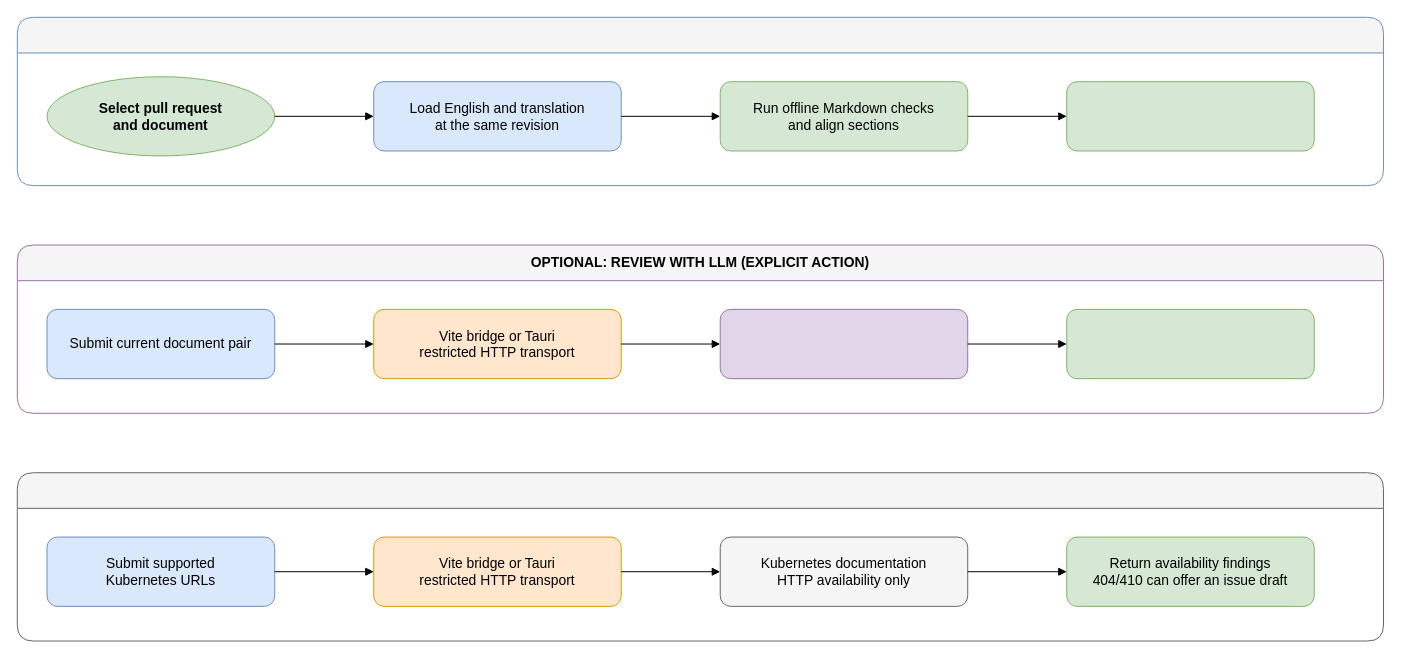
Image size: 1401x658. Some labels were removed from this diagram. Here are the shapes that lost their labels. From the top down, the box of each, then its label:
(16, 16, 1384, 186): DOCUMENT SELECTION
(1066, 81, 1314, 151): Show offline findings and tentative alignments
(719, 308, 968, 379): Configured LLM provider
(1066, 308, 1314, 379): Validate and show AI findings
(16, 472, 1384, 641): OPTIONAL: CHECK PUBLISHED REFERENCES (EXPLICIT ACTION)
